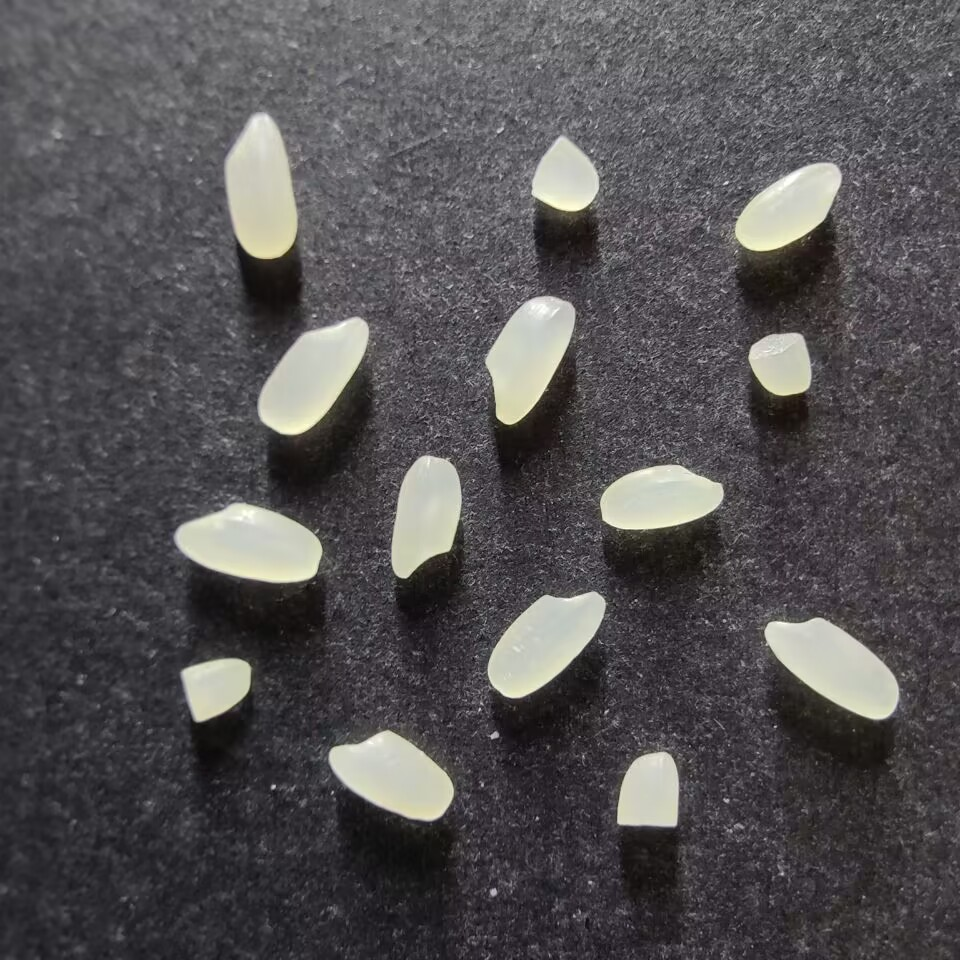broken: (529, 135, 600, 212), (616, 751, 680, 828), (181, 657, 251, 724), (748, 332, 812, 397)
rice: (763, 616, 900, 720), (257, 315, 369, 435), (486, 589, 606, 699), (173, 502, 323, 585), (483, 295, 575, 425), (327, 729, 453, 822), (223, 113, 298, 259), (734, 161, 842, 251), (390, 454, 463, 579), (599, 464, 722, 530)
